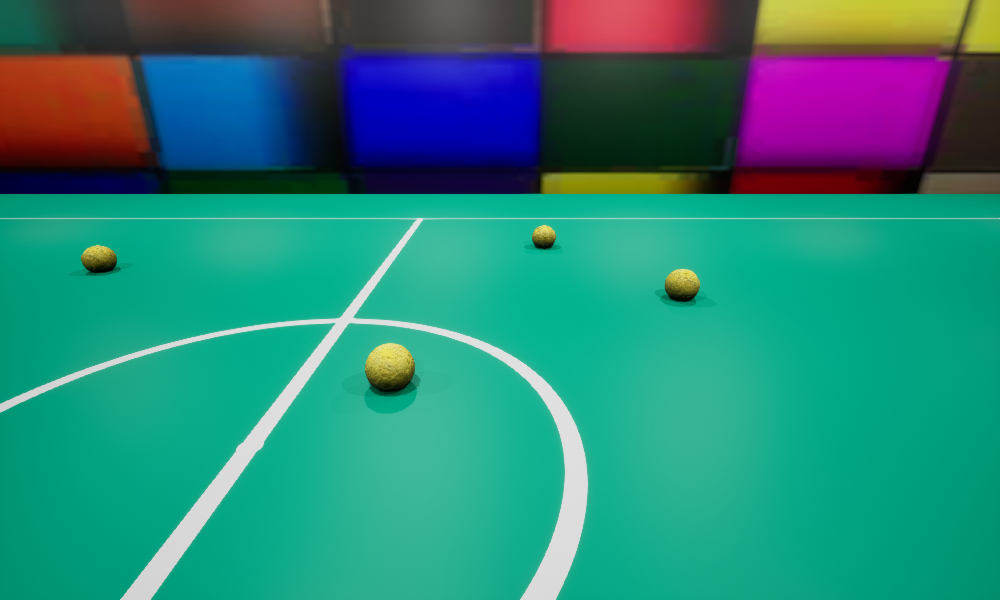b: (365, 343, 414, 391), (665, 269, 699, 300), (81, 245, 116, 272), (532, 225, 555, 247)
